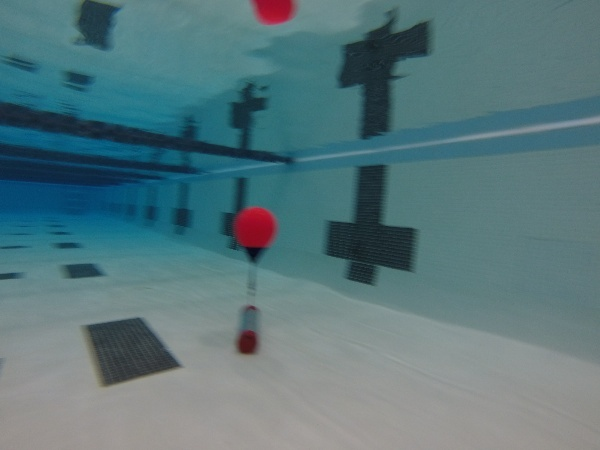buoy_red: (233, 205, 278, 269)
